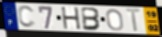7: (37, 5, 55, 30)
B: (81, 7, 103, 32)
C: (17, 5, 37, 29)
H: (60, 7, 83, 31)
O: (105, 8, 125, 32)
T: (124, 8, 143, 34)
